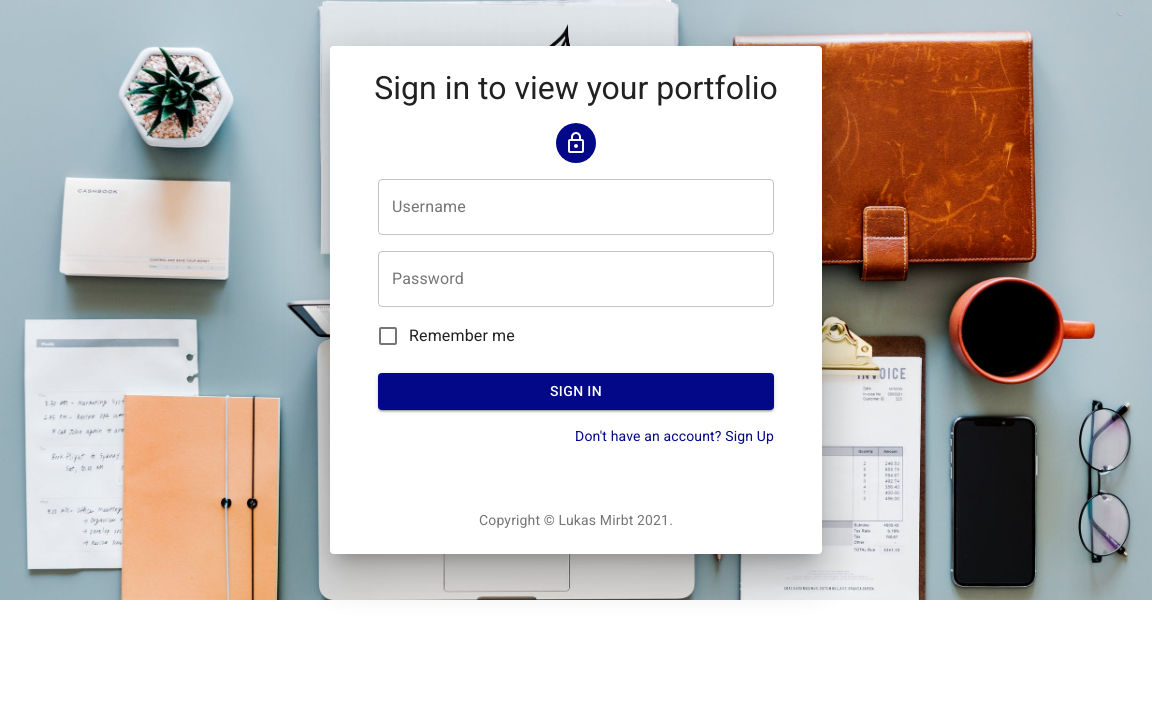
Test: Login › Shows error on invalid login attempt
Click the button with test id "signInButton" at coordinates (576, 392), box [378,373,774,410]
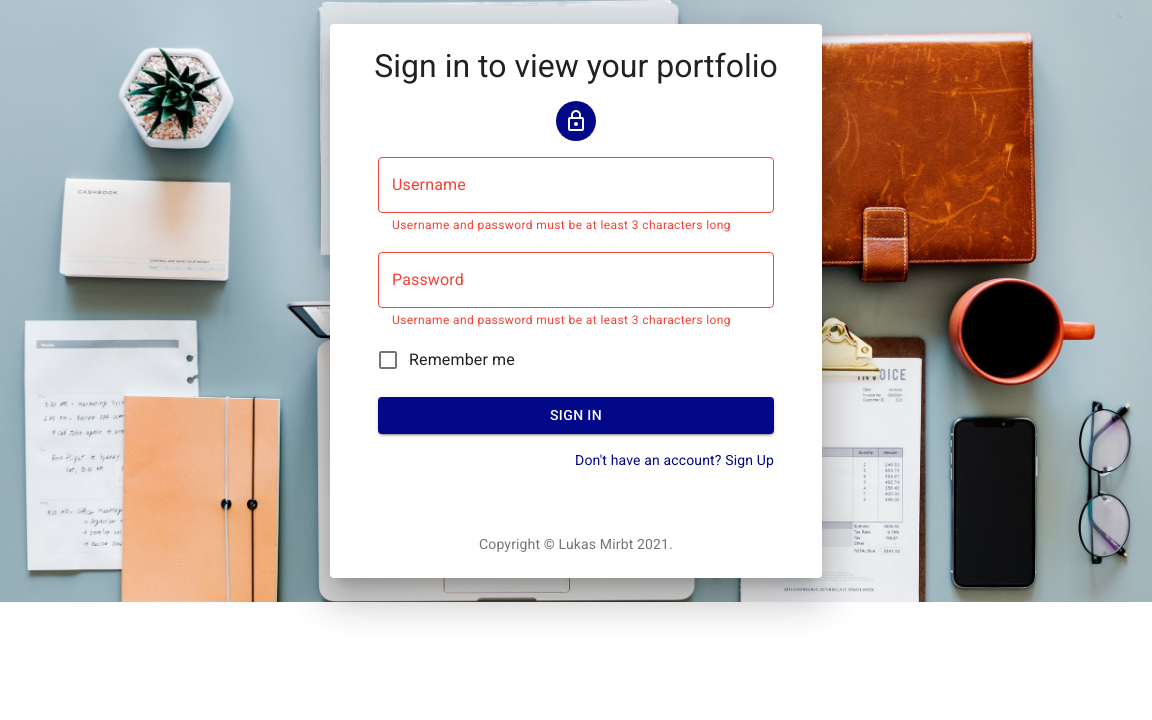
Now the text with id "username-helper-text" is shown, box [392,216,760,236]
Now the 2nd text "Username and password must be at least 3 characters long" is shown, box [392,311,760,331]
